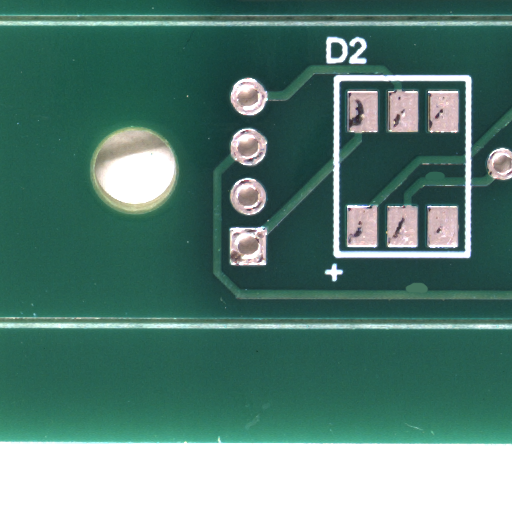Spur: (414, 287, 443, 301), (434, 175, 461, 186)
